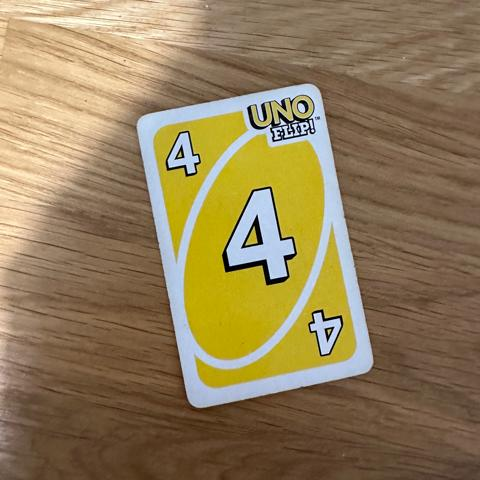lyellow-4: (150, 121, 214, 186)
